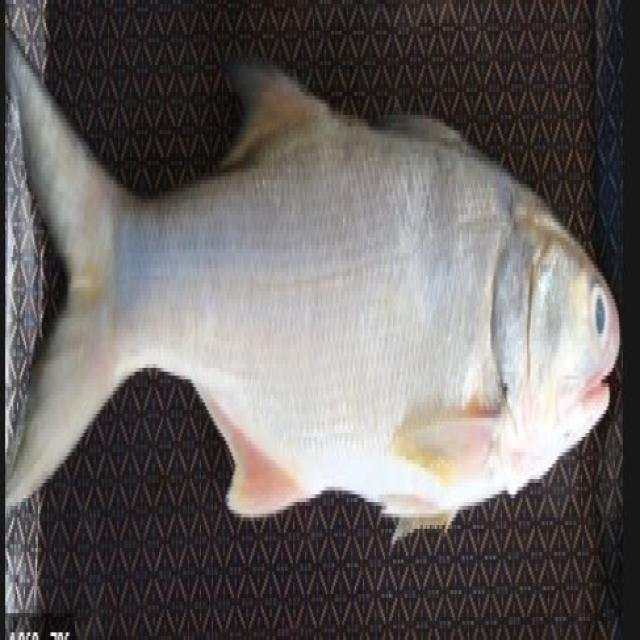Fourfinger-Threadfin: (6, 9, 632, 566)
